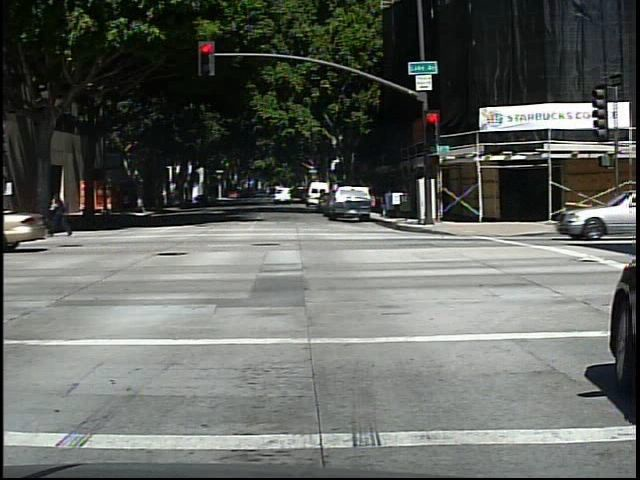person: (52, 187, 77, 238)
